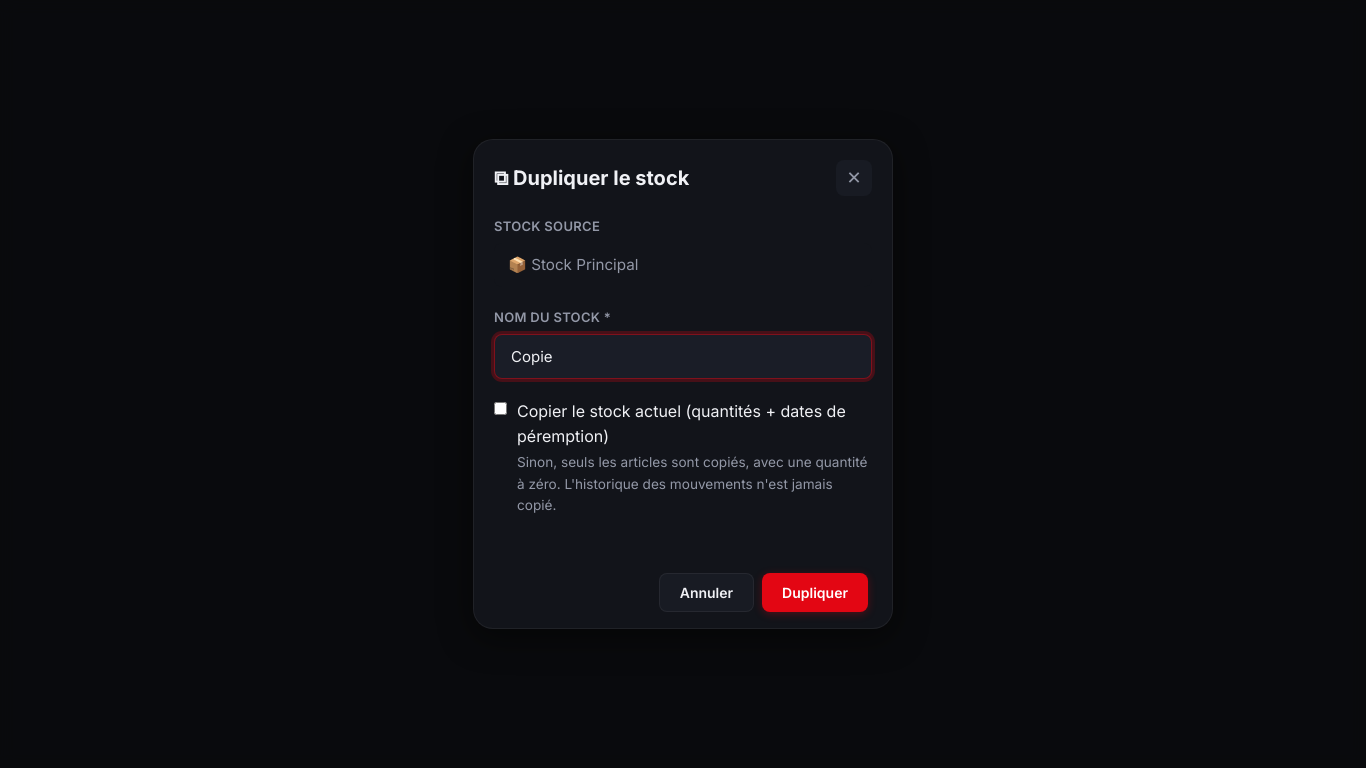
Test: StockModal › mode duplicate › affiche l'erreur serveur sans fermer la modale
Click the button "Dupliquer": click(815, 593) top-left (762, 573), bottom-right (868, 612)
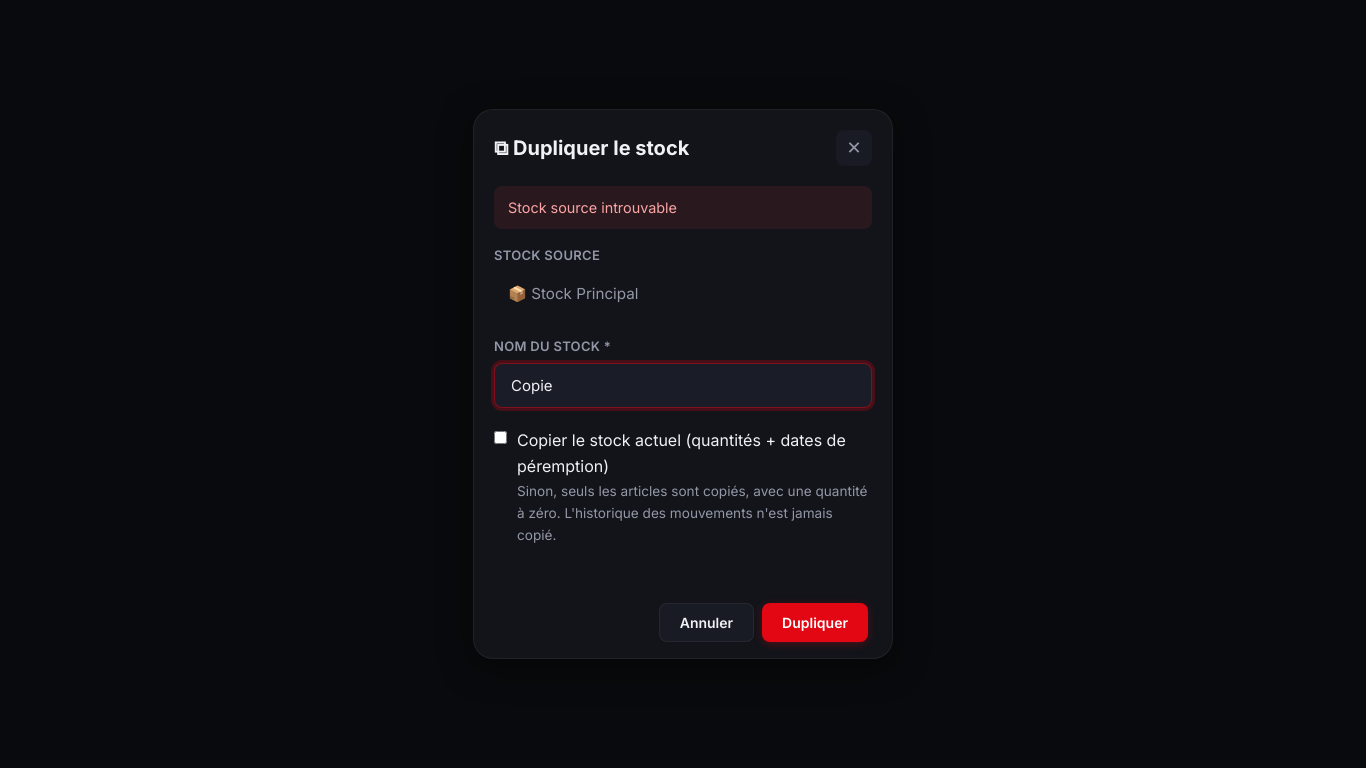
expect the text "Stock source introuvable" is shown: met, box top-left (494, 186), bottom-right (872, 229)
